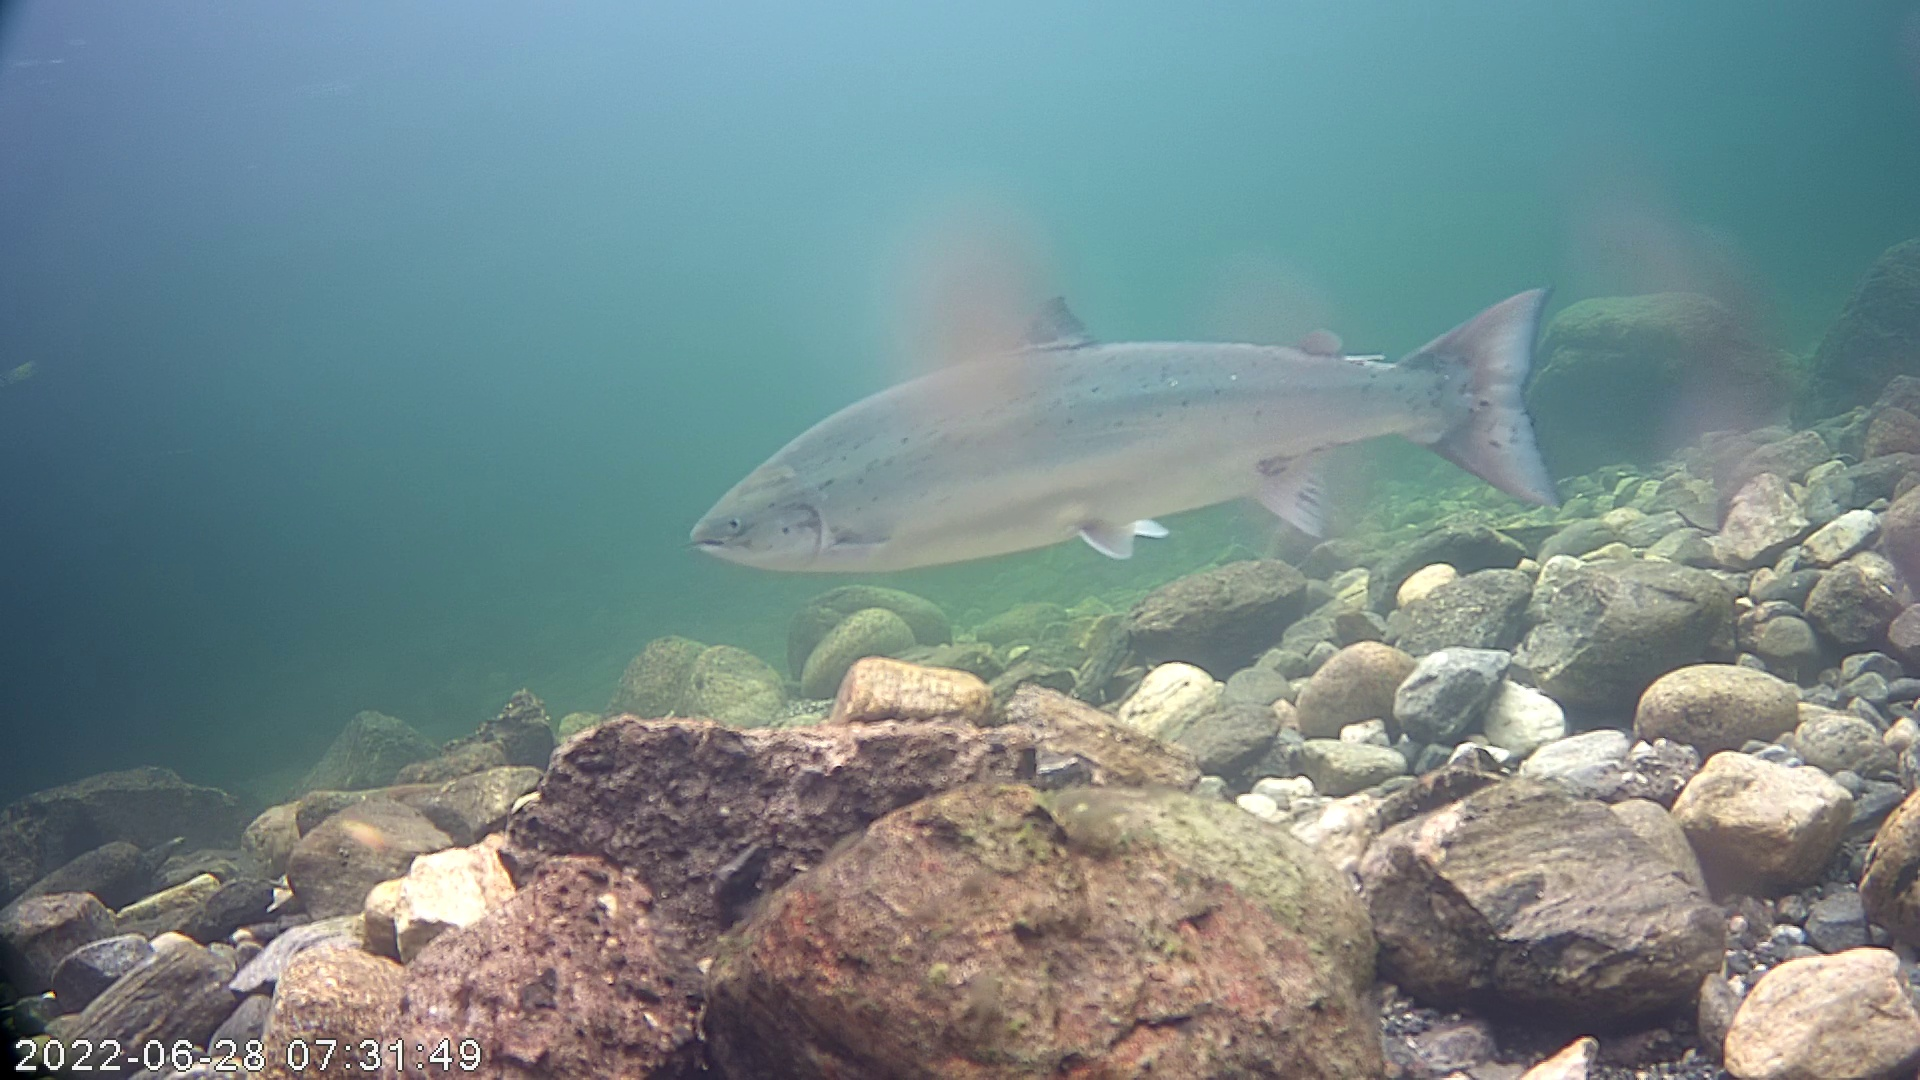salmon: (682, 214, 1581, 625)
